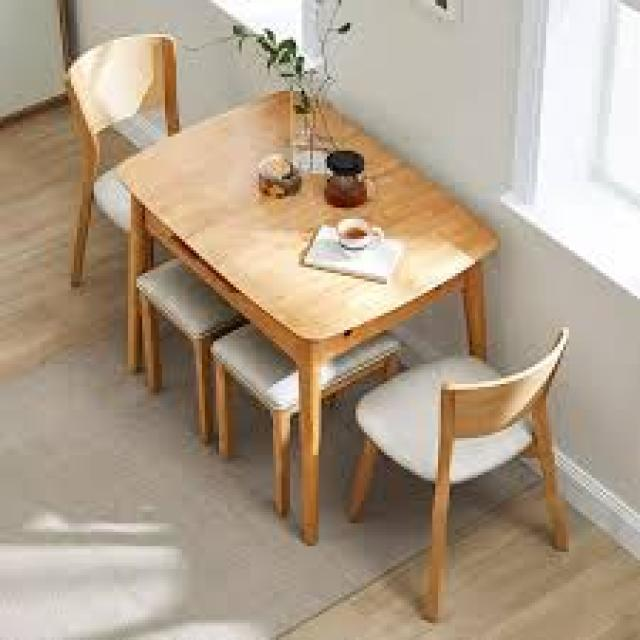table: (48, 21, 582, 634)
